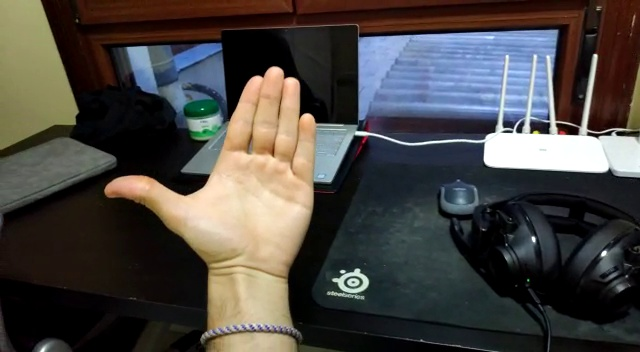Palm: (97, 64, 326, 292)
